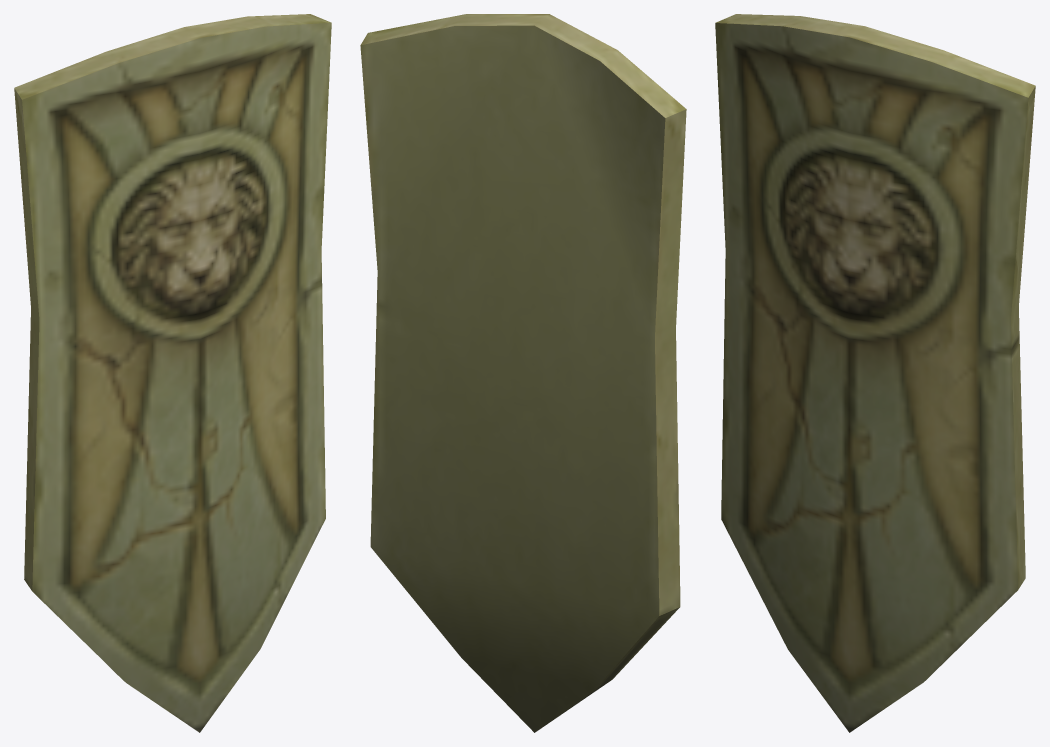
The model's file is Weapon02_Object_LostTemple.FBX.
3 views of the same model, side by side, from view 1: azimuth 30°, elevation 25°; view 2: azimuth 150°, elevation 25°; view 3: azimuth 330°, elevation 25° (orthographic).
Parts seen in each view (by area): view 1: Weapon02_Object_LostTemple; view 2: Weapon02_Object_LostTemple; view 3: Weapon02_Object_LostTemple.
Boxes of the visible parts, <box> form: Weapon02_Object_LostTemple: <box>14,14,331,732</box>; Weapon02_Object_LostTemple: <box>360,14,686,732</box>; Weapon02_Object_LostTemple: <box>715,14,1035,732</box>.
Bounding box in the file's own units: 687 × 1465 × 146.
Materials: 1 (1 with a texture image).
